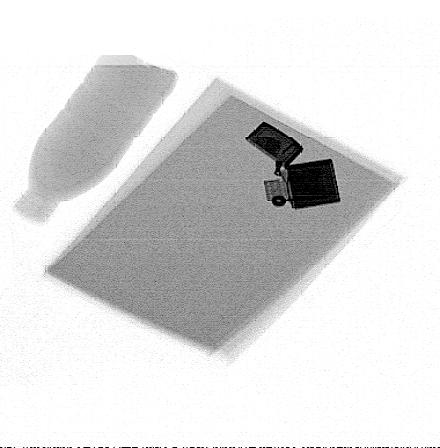Lighter: (243, 119, 343, 210)
